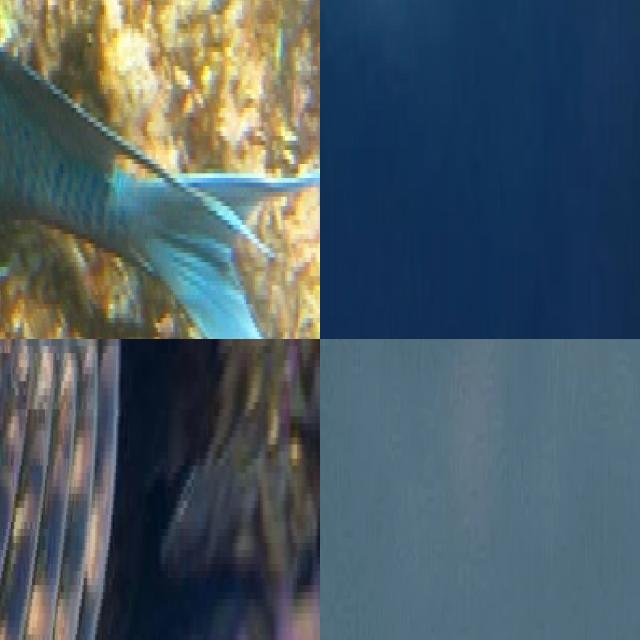fish: (0, 0, 320, 339), (0, 339, 303, 640), (320, 0, 462, 339)
